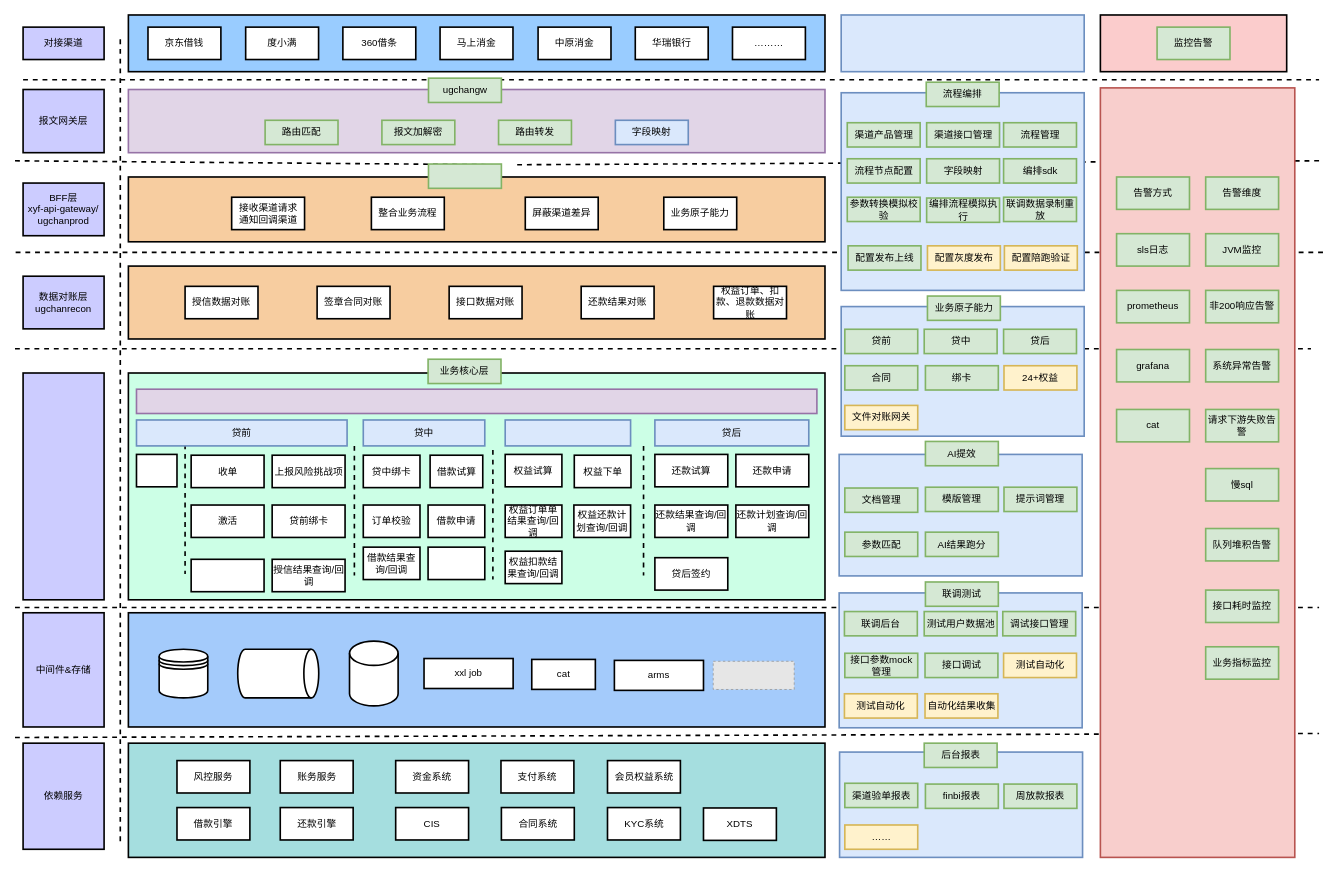
The diagram is 1343 pixels wide and 872 high, and some of its shapes have lost their labels. Grey dashed boxes stand in for pictures. The centre of each missing label's shape, as x and y in pixels:
"apiopfcore 业务核心层" goes at (63,486).
"mysql" goes at (373,673).
"redis" goes at (183,673).
"rocketmq" goes at (278,673).
"撞库" goes at (156,470).
"权益" goes at (567,432).
"渠道后管/提效平台" goes at (962,43).
"渠道适配层" goes at (464,176).
"熔断 限流 降级" goes at (476,401).
"用户数据认证" goes at (227,575).
"贷中签约" goes at (456,563).
